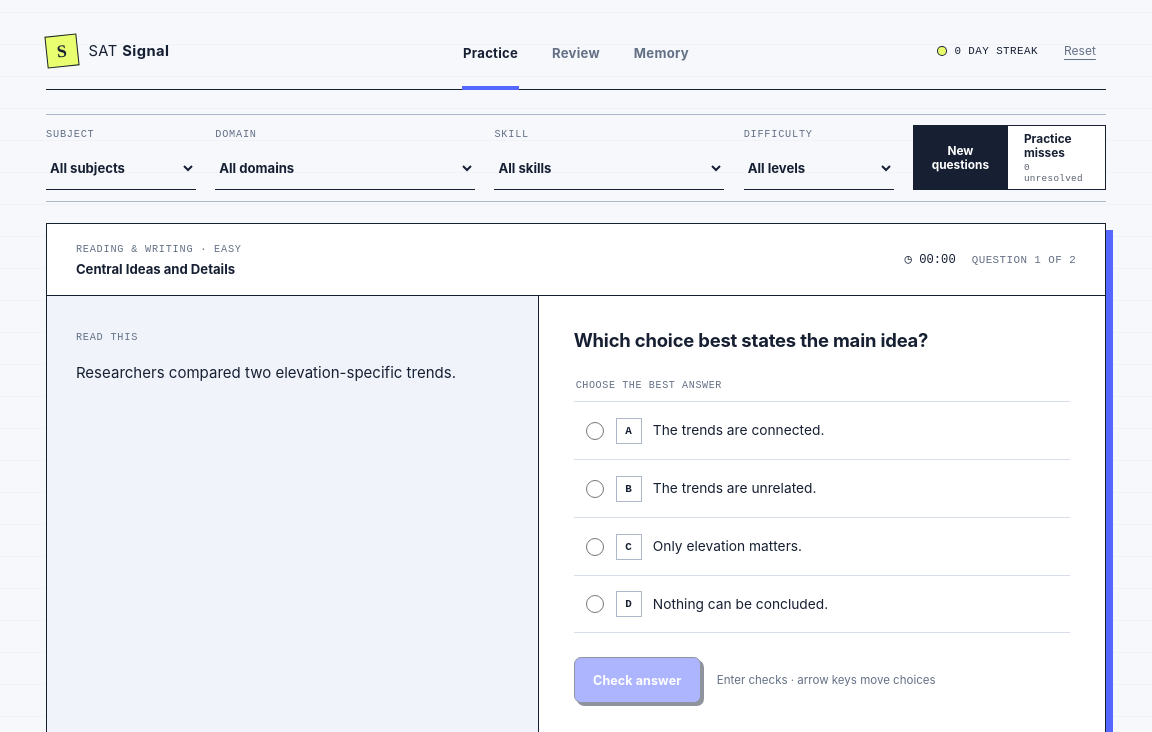
SAT practice app › supports skill filters and student-produced responses
Expected: the heading "Which choice best states the main idea?" is shown, [574,329,928,351]
Select "Math" in the dropdown labelled "Subject" at (121, 168), box [46,146,196,190]
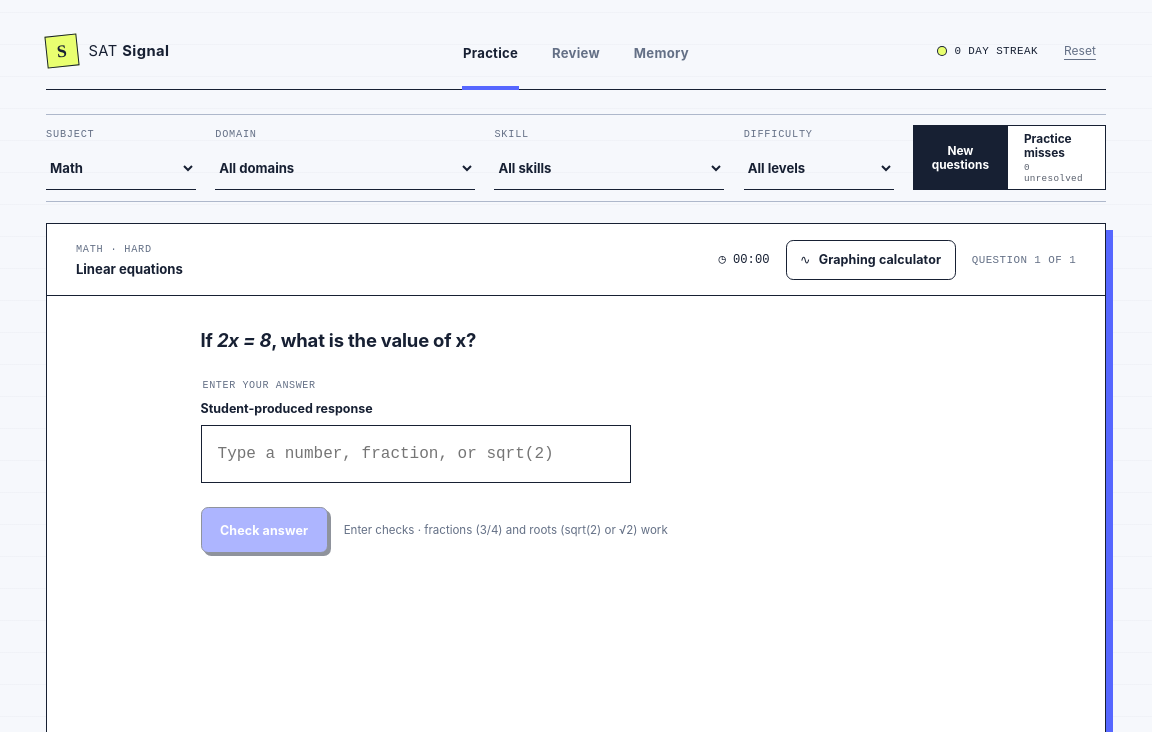
Expected: the dropdown labelled "Skill" shows "All skills", [494,146,724,190]
Expected: the heading "If 2x = 8, what is the value of x?" is shown, [200,329,476,351]
Type "4.0" into the field labelled "Student-produced response" at (416, 454), box [200,425,630,483]
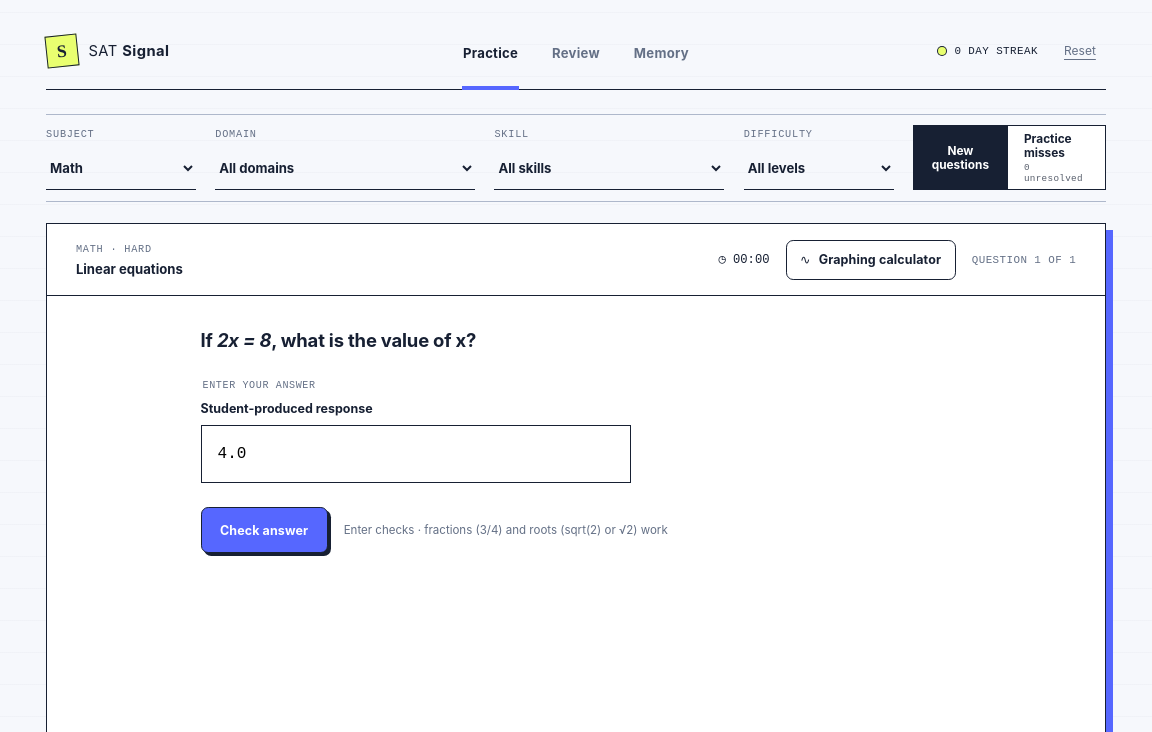
Click the button "Check answer" at (264, 530), box [200,507,328,553]
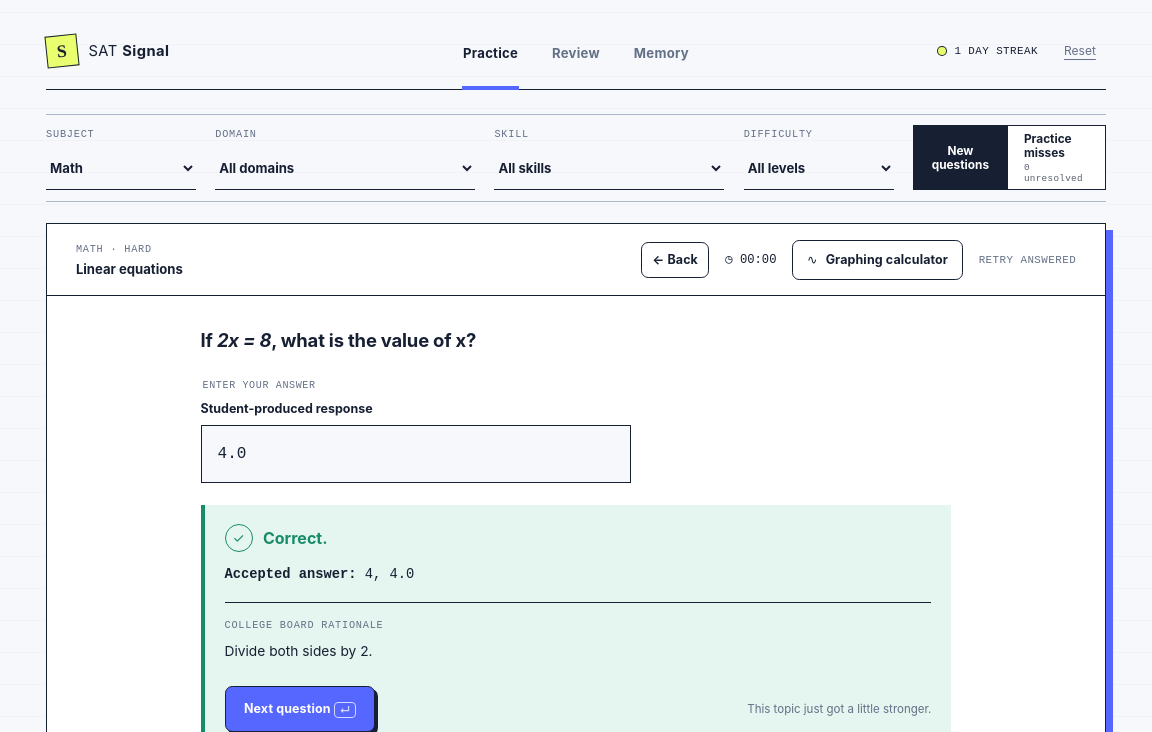
Expected: the message shows "Correct", [263,528,328,548]
Expected: the text "Accepted answer: 4, 4.0" is shown, [224,567,414,582]
